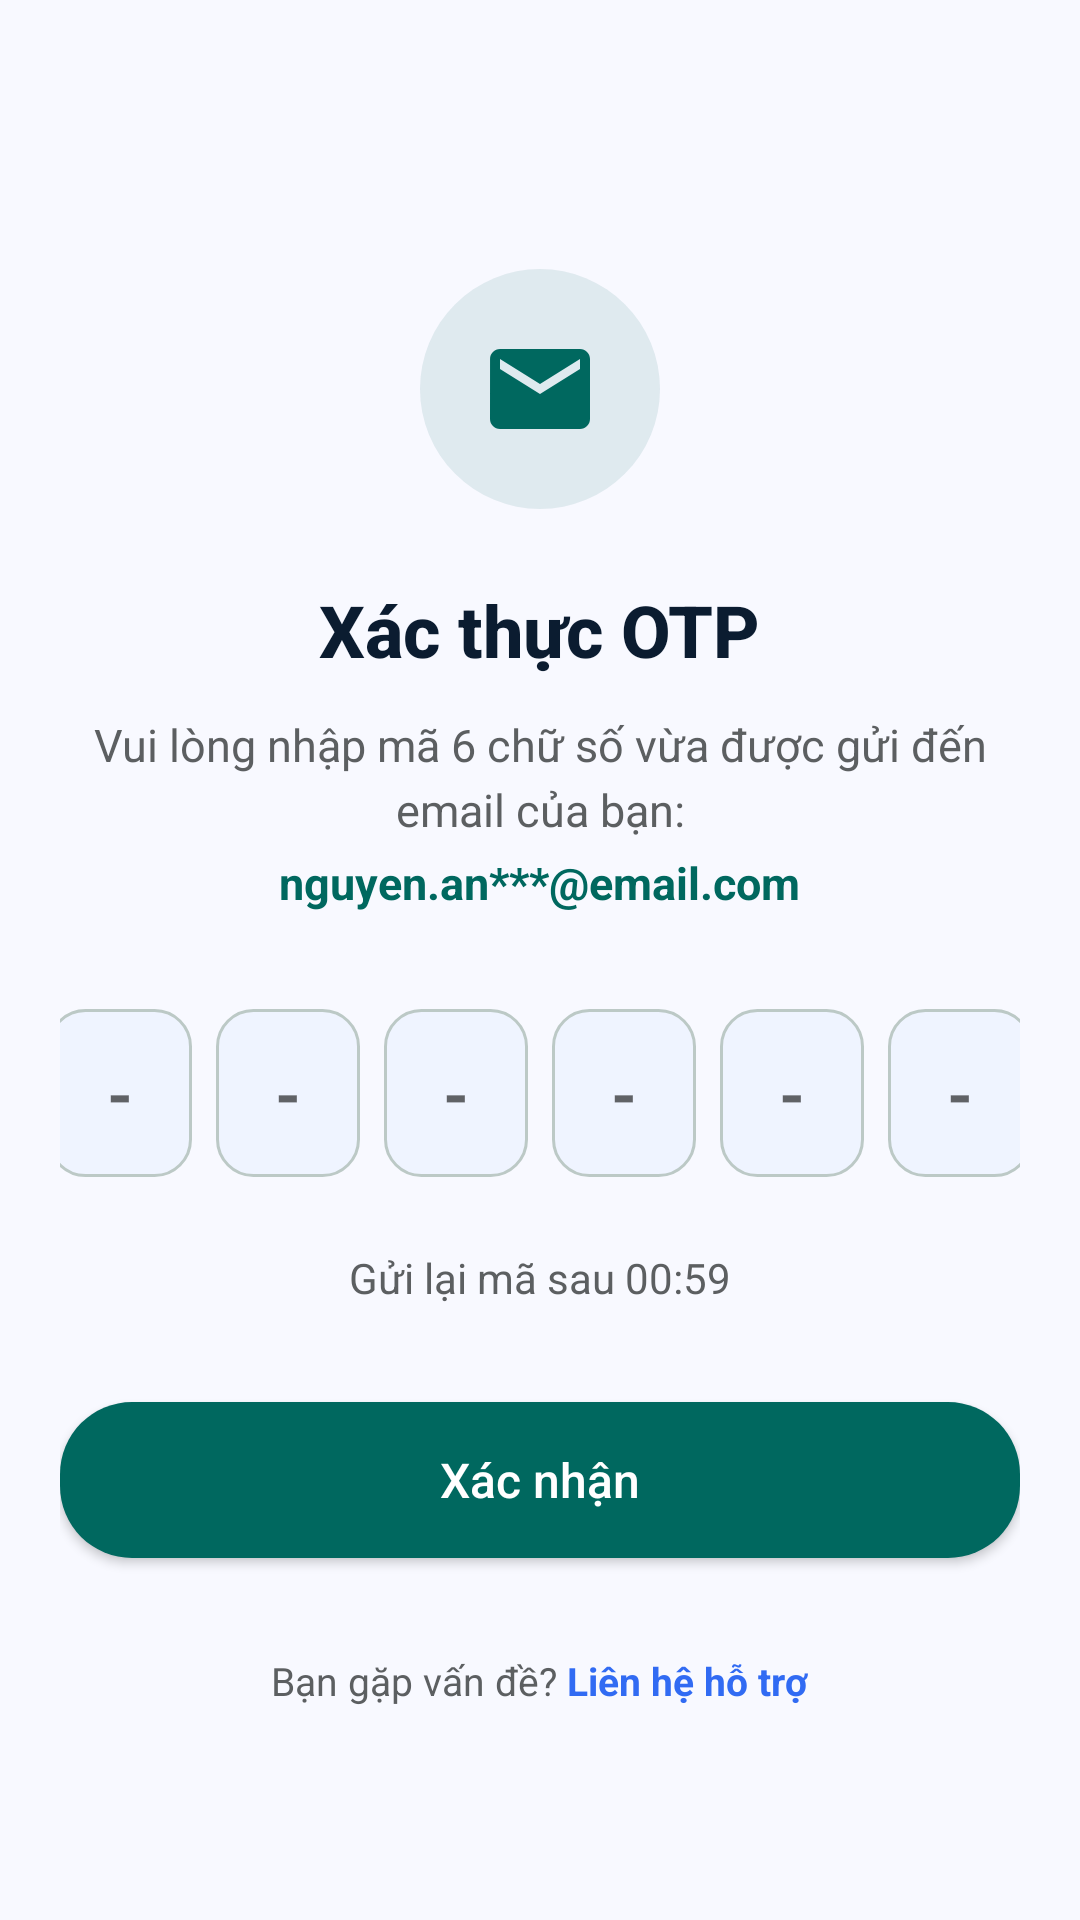

Point at icon controls on the screen. Image size 1080 x 1920, points as point (x, y).
mail unread: point (540, 389)
